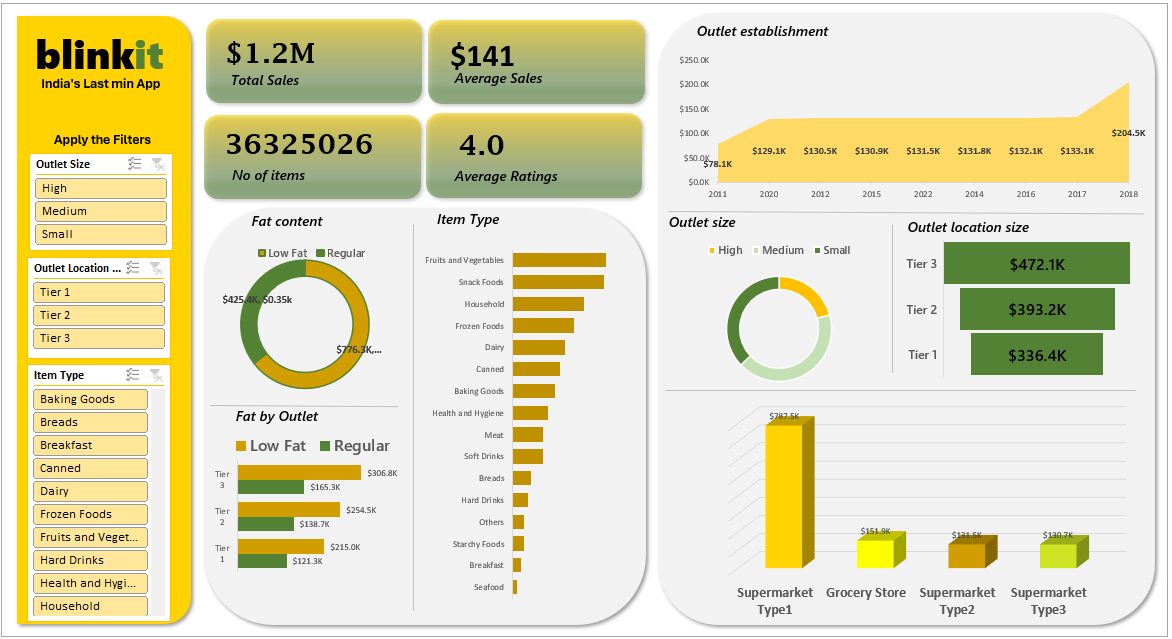

This screenshot's page, from the dashboard's own definition file:
{"tool":"powerbi","page":{"name":"HOME","canvas":[1400,800],"ordinal":0},"visuals":[{"type":"shape","box":[16,32,192,752],"z":0},{"type":"textbox","box":[28.6,41.4,170,75.7],"z":1000},{"type":"textbox","box":[28.6,100,167.1,32.9],"z":2000},{"type":"cardVisual","fields":{"Data":["BlinkIT Grocery Data.Total Sales","BlinkIT Grocery Data.Avg sales","BlinkIT Grocery Data.No of items","BlinkIT Grocery Data.Avg rating"]},"box":[224,32,544,272],"z":3000},{"type":"image","box":[432,64,48,48],"z":4000},{"type":"image","box":[688,64,48,32],"z":5000},{"type":"image","box":[416,192,64,48],"z":6000},{"type":"image","box":[688,192,48,48],"z":7000},{"type":"shape","box":[208,304,560,496],"z":8000},{"type":"donutChart","title":"FAT CONTENT","fields":{"Y":["BlinkIT Grocery Data.Avg sales"],"Category":["BlinkIT Grocery Data.Item Fat Content"]},"box":[224,368,272,208],"z":9000},{"type":"slicer","fields":{"Values":["Metrics.Metrics"]},"box":[240,320,464,48],"z":10000},{"type":"cardVisual","fields":{"Data":["BlinkIT Grocery Data.Avg sales"]},"box":[320,464,80,48],"z":11000},{"type":"clusteredBarChart","title":"FAT BY OUTLET","fields":{"Y":["BlinkIT Grocery Data.Avg sales"],"Category":["BlinkIT Grocery Data.Outlet Location Type"],"Series":["BlinkIT Grocery Data.Item Fat Content"]},"box":[224,592,272,192],"z":12000},{"type":"shape","box":[240,560,240,32],"z":13000},{"type":"shape","box":[496,368,16,400],"z":14000},{"type":"barChart","title":"ITEM TYPE","fields":{"Y":["BlinkIT Grocery Data.Avg sales"],"Category":["BlinkIT Grocery Data.Item Type"]},"box":[512,368,240,432],"z":15000},{"type":"shape","box":[760,0,640,784],"z":16000},{"type":"lineChart","title":" Outlet Establishment","fields":{"Category":["BlinkIT Grocery Data.Outlet Establishment Year"],"Y":["BlinkIT Grocery Data.Total Sales"]},"box":[784,16,592,288],"z":17000},{"type":"shape","box":[784,288,592,32],"z":18000},{"type":"donutChart","title":"OUTLET SIZE","fields":{"Y":["BlinkIT Grocery Data.Total Sales"],"Category":["BlinkIT Grocery Data.Outlet Size"]},"box":[784,320,272,208],"z":19000},{"type":"shape","box":[1056,320,16,208],"z":20000},{"type":"funnel","title":" Outlet Location ","fields":{"Category":["BlinkIT Grocery Data.Outlet Location Type"],"Y":["Sum(BlinkIT Grocery Data.Sales)"]},"box":[1088,320,288,208],"z":21000},{"type":"shape","box":[784,528,592,32],"z":22000},{"type":"pivotTable","title":"OUTLET TYPE","fields":{"Rows":["BlinkIT Grocery Data.Outlet Type"],"Values":["BlinkIT Grocery Data.Total Sales","BlinkIT Grocery Data.No of items","BlinkIT Grocery Data.Avg sales","BlinkIT Grocery Data.Avg rating","Avg(BlinkIT Grocery Data.Item Visibility)"]},"box":[784,576,592,192],"z":23000},{"type":"slicer","fields":{"Values":["BlinkIT Grocery Data.Outlet Location Type"]},"box":[32,272,160,64],"z":24000},{"type":"slicer","fields":{"Values":["BlinkIT Grocery Data.Outlet Size"]},"box":[32,352,160,64],"z":25000},{"type":"slicer","fields":{"Values":["BlinkIT Grocery Data.Item Type"]},"box":[32,432,160,64],"z":26000},{"type":"textbox","box":[64,224,128,32],"z":27000},{"type":"image","box":[32,224,32,32],"z":28000},{"type":"actionButton","box":[144,512,32,48],"z":29000},{"type":"pageNavigator","box":[32,512,160,48],"z":30000},{"type":"actionButton","box":[112,624,48,64],"z":31000},{"type":"textbox","box":[48,608,160,48],"z":31001}]}

Visuals, with their boxes on the page's 1400x800 design canvas (x1, y1, x2, y2). These are canvas units, not pixel positions in the 1172x639 screenshot, which may show the page scaled, cropped or inside an application window:
shape: [x1=16, y1=32, x2=208, y2=784]
textbox: [x1=29, y1=41, x2=199, y2=117]
textbox: [x1=29, y1=100, x2=196, y2=133]
cardVisual - BlinkIT Grocery Data.Total Sales x BlinkIT Grocery Data.Avg sales: [x1=224, y1=32, x2=768, y2=304]
image: [x1=432, y1=64, x2=480, y2=112]
image: [x1=688, y1=64, x2=736, y2=96]
image: [x1=416, y1=192, x2=480, y2=240]
image: [x1=688, y1=192, x2=736, y2=240]
shape: [x1=208, y1=304, x2=768, y2=800]
"FAT CONTENT" donutChart: [x1=224, y1=368, x2=496, y2=576]
slicer - Metrics.Metrics: [x1=240, y1=320, x2=704, y2=368]
cardVisual - BlinkIT Grocery Data.Avg sales: [x1=320, y1=464, x2=400, y2=512]
"FAT BY OUTLET" clusteredBarChart: [x1=224, y1=592, x2=496, y2=784]
shape: [x1=240, y1=560, x2=480, y2=592]
shape: [x1=496, y1=368, x2=512, y2=768]
"ITEM TYPE" barChart: [x1=512, y1=368, x2=752, y2=800]
shape: [x1=760, y1=0, x2=1400, y2=784]
" Outlet Establishment" lineChart: [x1=784, y1=16, x2=1376, y2=304]
shape: [x1=784, y1=288, x2=1376, y2=320]
"OUTLET SIZE" donutChart: [x1=784, y1=320, x2=1056, y2=528]
shape: [x1=1056, y1=320, x2=1072, y2=528]
" Outlet Location " funnel: [x1=1088, y1=320, x2=1376, y2=528]
shape: [x1=784, y1=528, x2=1376, y2=560]
"OUTLET TYPE" pivotTable: [x1=784, y1=576, x2=1376, y2=768]
slicer - BlinkIT Grocery Data.Outlet Location Type: [x1=32, y1=272, x2=192, y2=336]
slicer - BlinkIT Grocery Data.Outlet Size: [x1=32, y1=352, x2=192, y2=416]
slicer - BlinkIT Grocery Data.Item Type: [x1=32, y1=432, x2=192, y2=496]
textbox: [x1=64, y1=224, x2=192, y2=256]
image: [x1=32, y1=224, x2=64, y2=256]
actionButton: [x1=144, y1=512, x2=176, y2=560]
pageNavigator: [x1=32, y1=512, x2=192, y2=560]
actionButton: [x1=112, y1=624, x2=160, y2=688]
textbox: [x1=48, y1=608, x2=208, y2=656]
